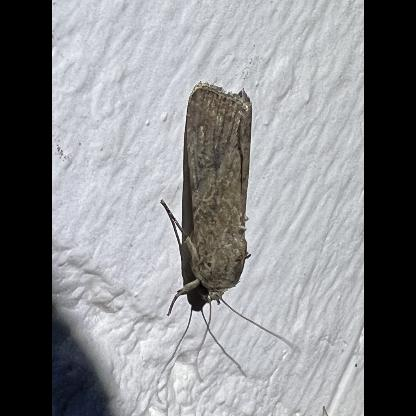Fall Armyworm Moth: (154, 78, 296, 388)
